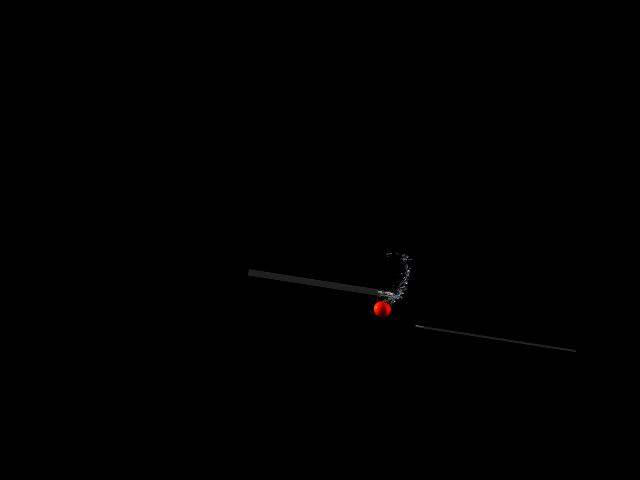tomato: (372, 299, 392, 318)
